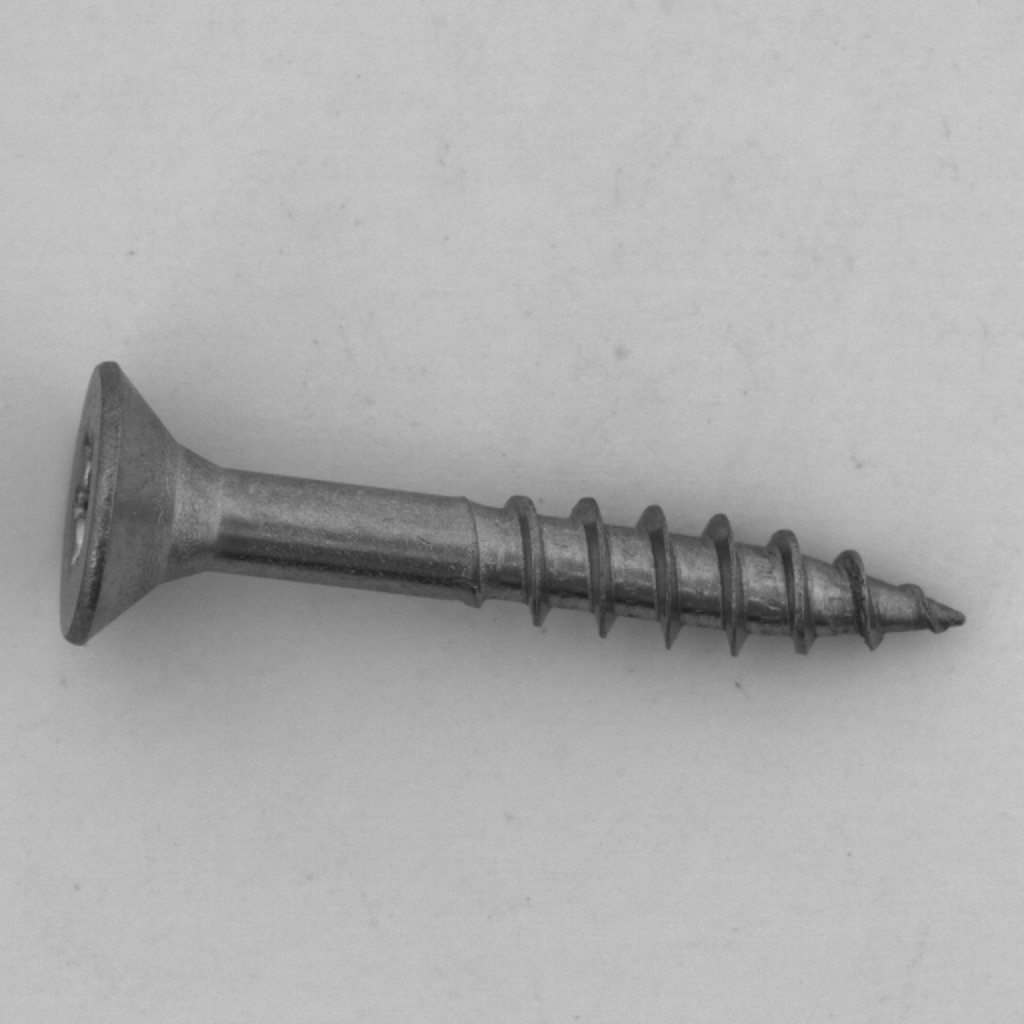good: (37, 343, 981, 673)
